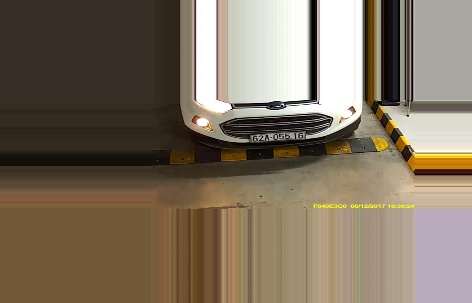plate: (248, 128, 304, 142)
